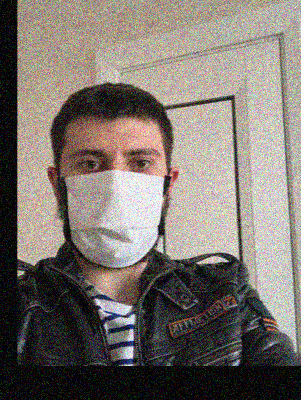with_mask: (59, 138, 171, 269)
